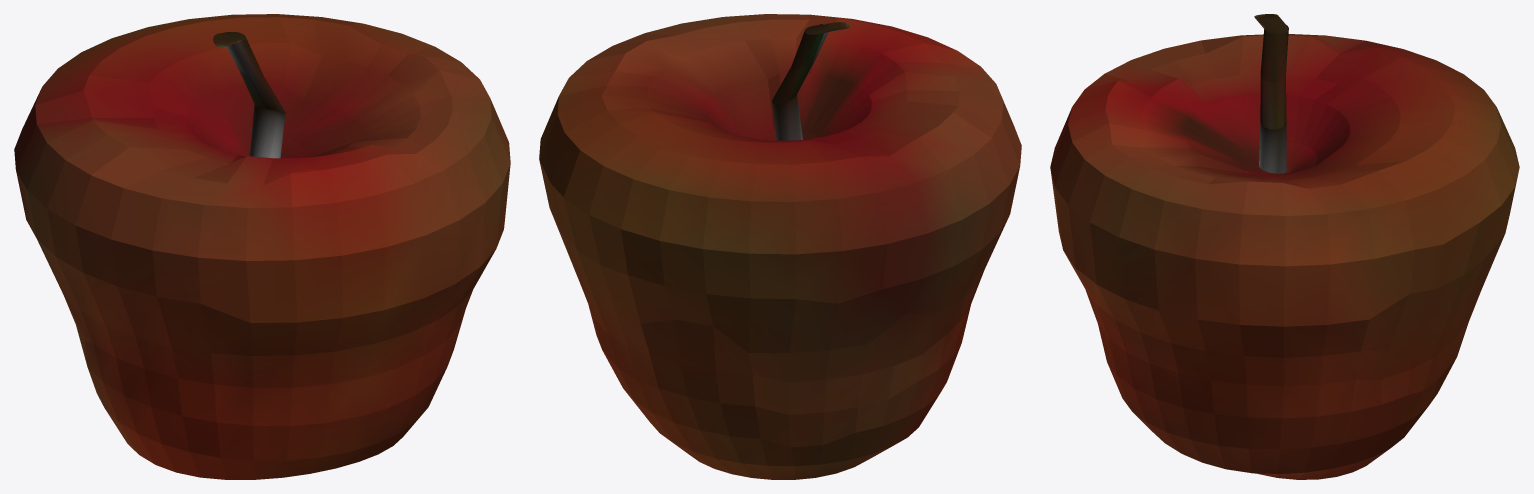
File: apple.glb
3 views of the same model, side by side, from view 1: azimuth 30°, elevation 25°; view 2: azimuth 150°, elevation 25°; view 3: azimuth 270°, elevation 25° (orthographic). The views are drawn at different scales.
Visible parts, largest first — view 1: apple; view 2: apple; view 3: apple.
Part boxes in pixels (box(x1,y1,x2,y2)): apple: box(14, 14, 510, 479); apple: box(539, 14, 1021, 479); apple: box(1050, 14, 1519, 479).
Size of the model in its own units: 24.38 by 23.19 by 24.38.
